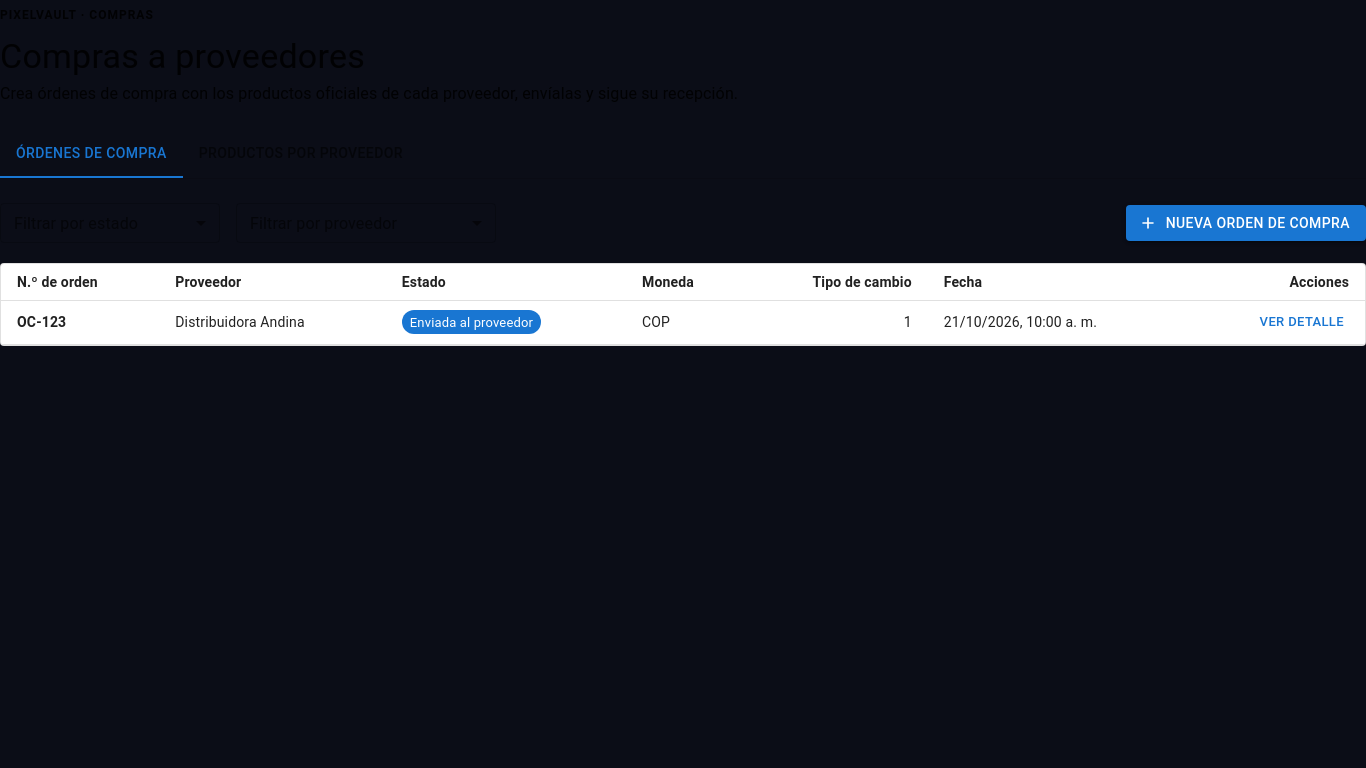
it: PurchasesPage › cancels a sent order after confirmation
The width and height of the screenshot is (1366, 768).
Click the button with aria-label "Ver detalle OC-123" at (1302, 322), box [1255,307,1349,338]
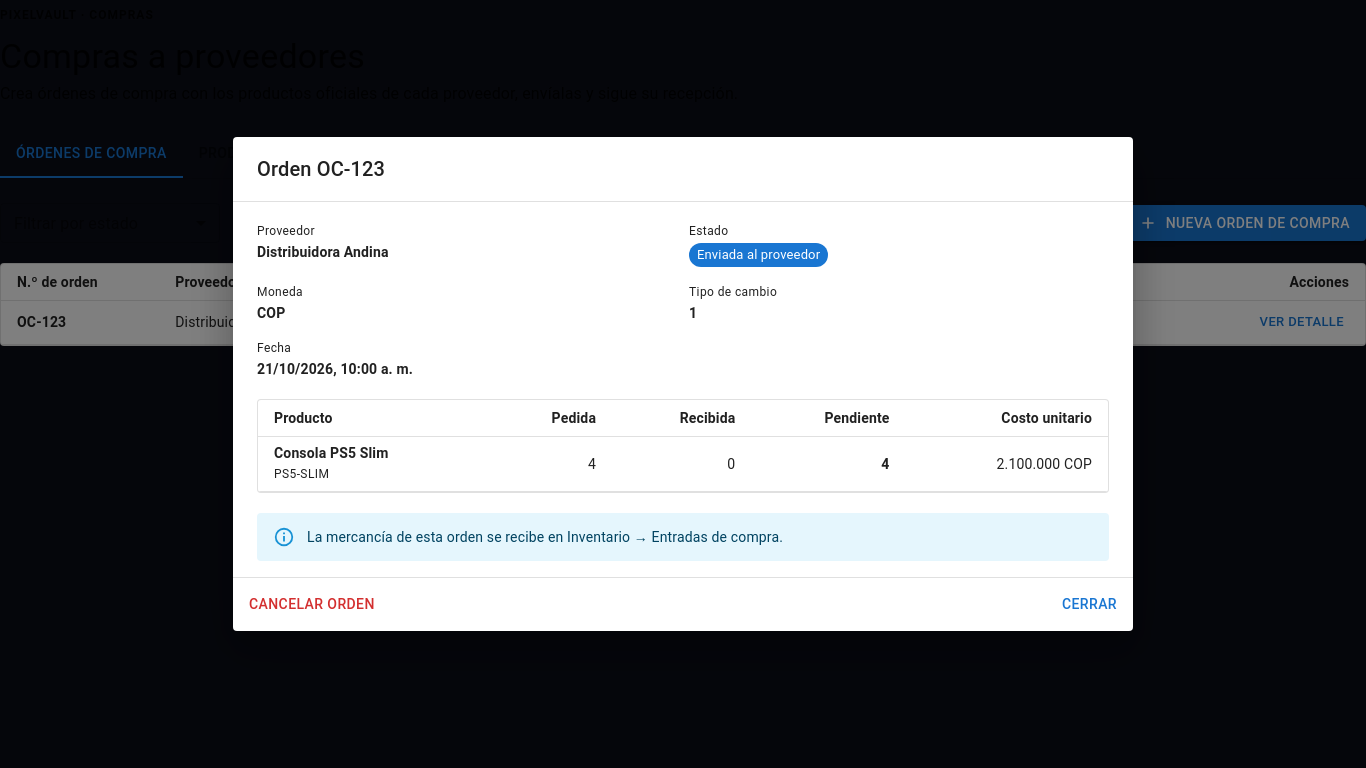
Expected: the text "2.100.000 COP" is shown, [906,437,1108,492]
Click the button "Cancelar orden" at (312, 604), box [241,586,383,623]
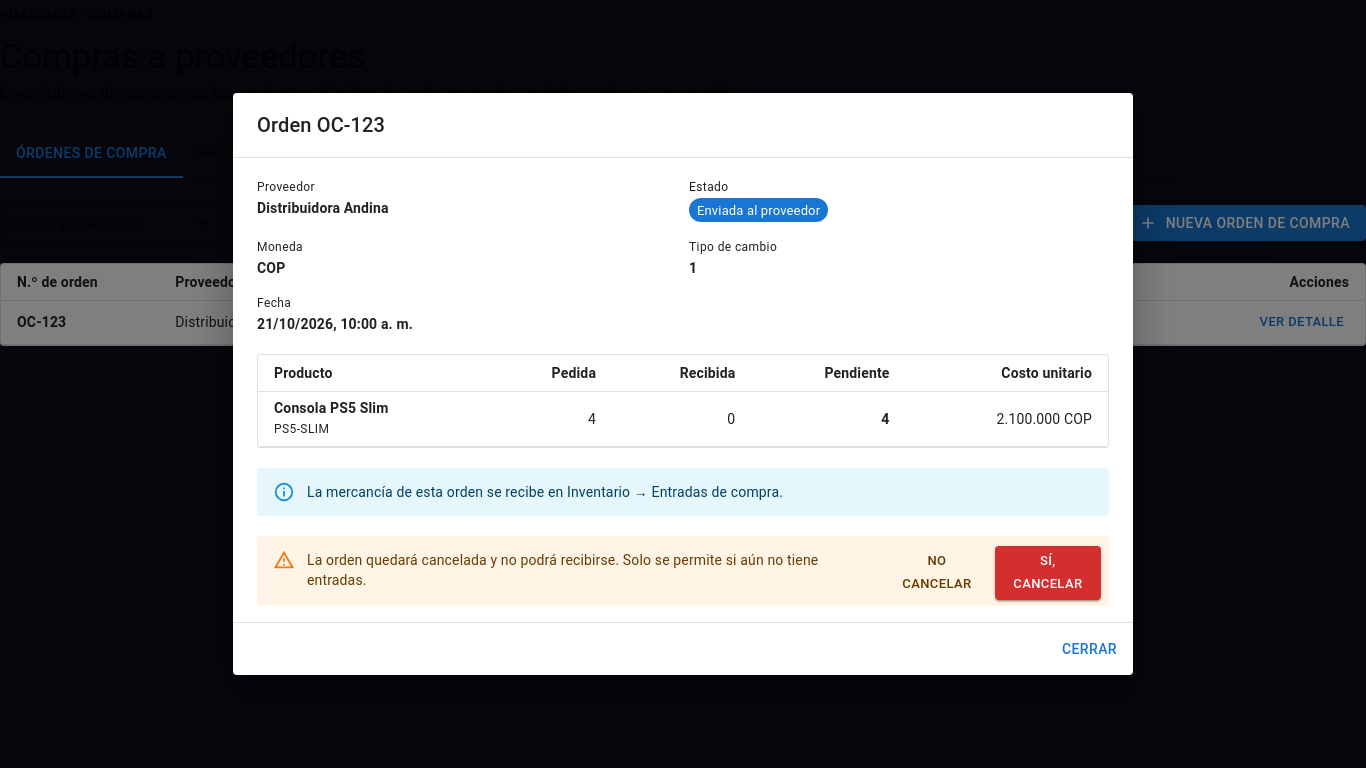
Click the button "Sí, cancelar" at (1048, 573), box [995,546,1101,600]
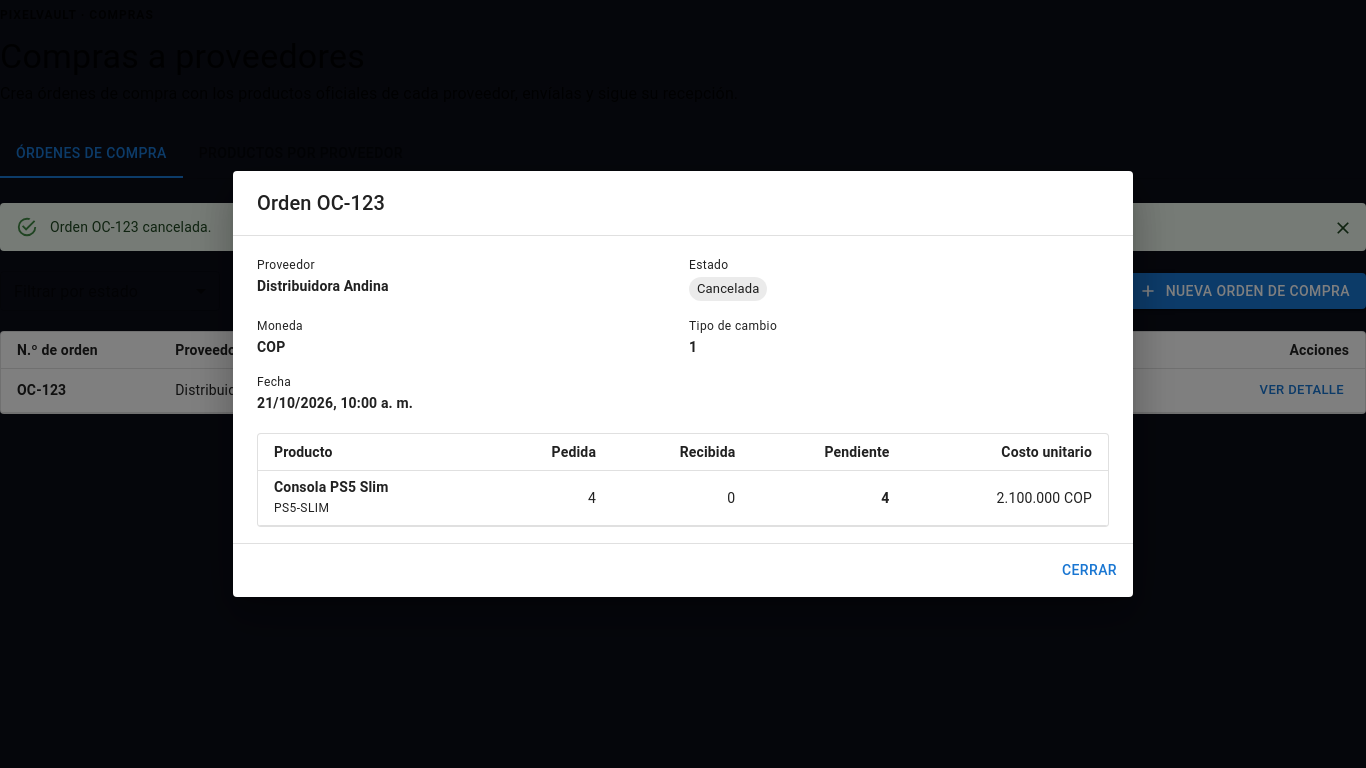
Expected: the button "Cancelar orden" is not shown
Expected: the text "Cancelada" is shown, [697,281,759,296]
